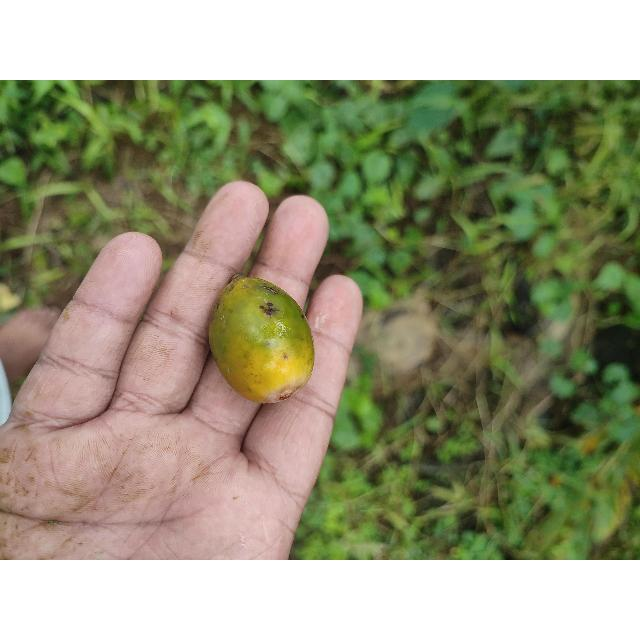good: (207, 277, 316, 405)
